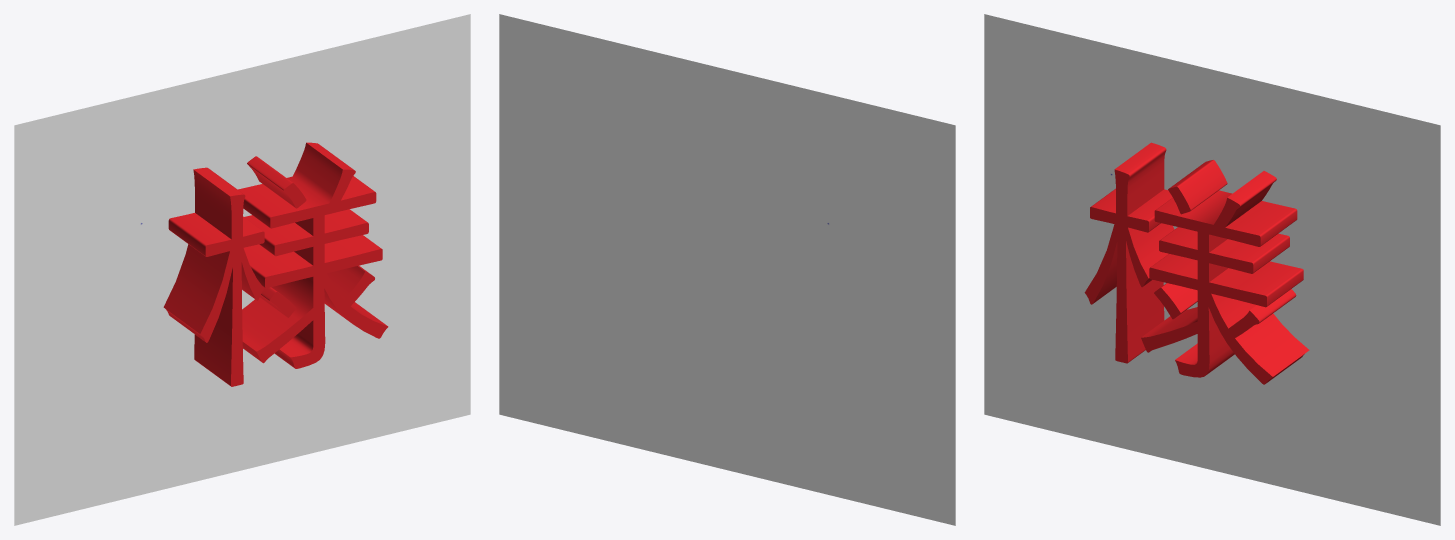
Rendered from sama.fbx.
3 renders of one model, left to right at view 1: azimuth 30°, elevation 25°; view 2: azimuth 150°, elevation 25°; view 3: azimuth 330°, elevation 25°, orthographic.
Parts seen in each view (by area): view 1: root, node_id134; view 2: root; view 3: root, node_id134.
Part boxes in pixels (left/top/right/bottom): root: left=14, top=14, right=470, bottom=525; node_id134: left=163, top=142, right=388, bottom=386; root: left=499, top=14, right=955, bottom=525; root: left=984, top=14, right=1440, bottom=525; node_id134: left=1084, top=142, right=1309, bottom=384.
Bounding box in the file's own units: 1.63 × 1.37 × 0.2651.
Materials: 2 (1 with a texture image).
